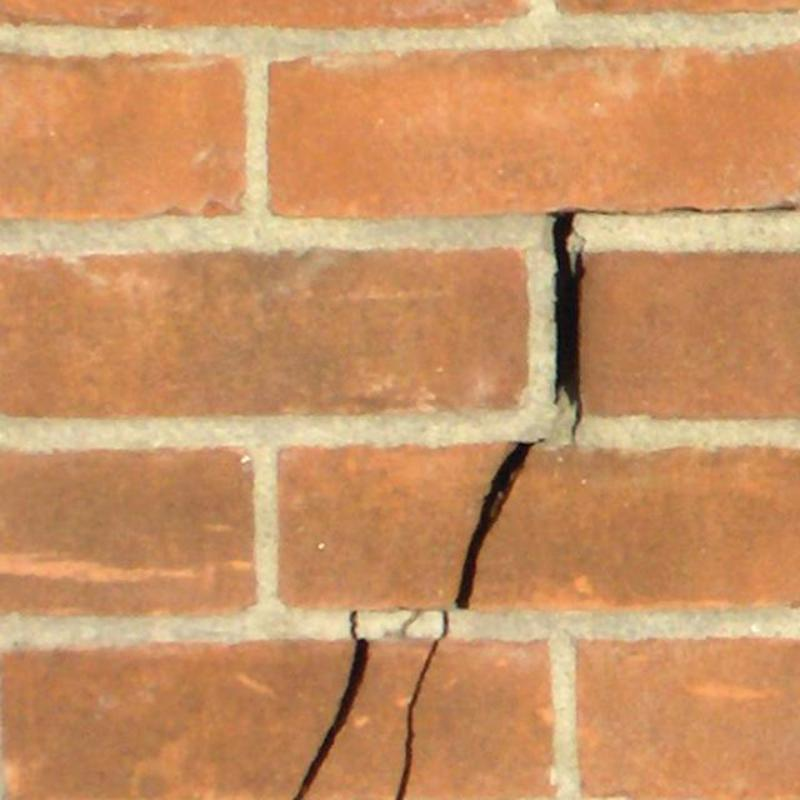pothole: (545, 206, 798, 440), (294, 611, 369, 799), (455, 442, 532, 609), (395, 611, 448, 799), (400, 609, 421, 638)
